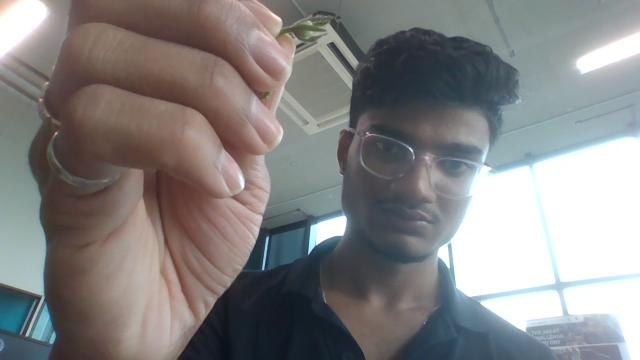Fruit Bud: (283, 20, 331, 42)
